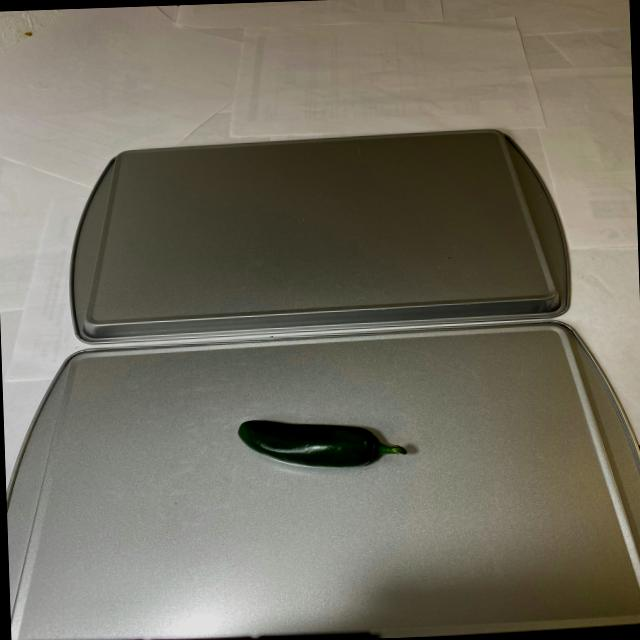chilli: (224, 402, 431, 476)
